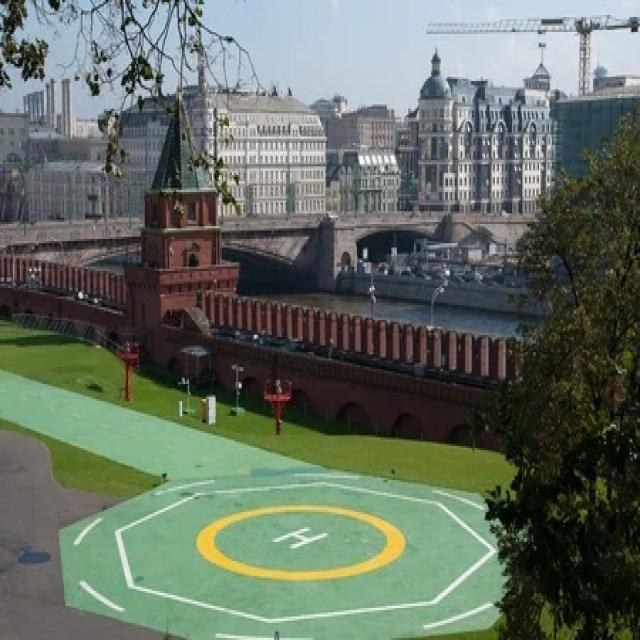helipad: (192, 497, 405, 585)
